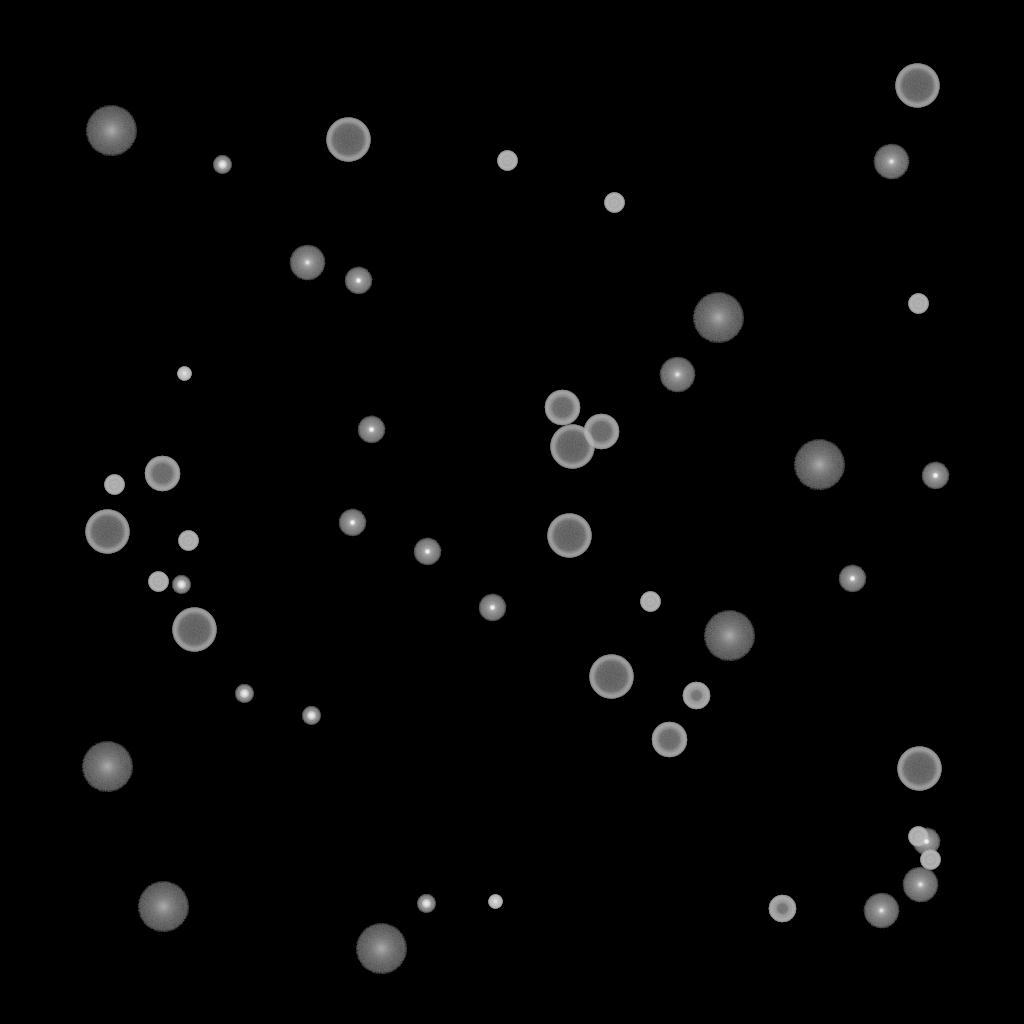depth:-10: (344, 267, 372, 295), (838, 565, 866, 593), (413, 538, 441, 566), (338, 509, 366, 537), (478, 594, 506, 622), (921, 462, 949, 490), (912, 828, 940, 856), (357, 416, 385, 444)
depth:-20: (213, 156, 231, 174), (235, 685, 253, 703), (417, 895, 435, 913), (302, 707, 320, 725), (172, 576, 190, 594)
depth:-30: (488, 895, 502, 909), (177, 367, 191, 381)
depth:-40: (178, 531, 198, 551), (604, 193, 624, 213), (908, 294, 928, 314), (148, 572, 168, 592), (497, 151, 517, 171), (640, 592, 660, 612), (920, 850, 940, 870), (908, 827, 928, 847), (104, 475, 124, 495)
depth:-50: (768, 895, 796, 923), (682, 682, 710, 710)
depth:-60: (583, 414, 619, 450), (651, 722, 687, 758), (544, 390, 580, 426), (144, 456, 180, 492)
depth:-70: (897, 747, 941, 791), (172, 608, 216, 652), (895, 64, 939, 108), (550, 425, 594, 469), (326, 118, 370, 162), (589, 655, 633, 699), (85, 510, 129, 554), (547, 514, 591, 558)
depth:0: (873, 144, 909, 180), (659, 357, 695, 393), (902, 867, 938, 903), (289, 245, 325, 281), (863, 893, 899, 929)
depth:20: (85, 106, 137, 156), (81, 742, 133, 792), (692, 293, 744, 343), (793, 440, 845, 490), (137, 882, 189, 932), (703, 611, 755, 661), (355, 924, 407, 974)
